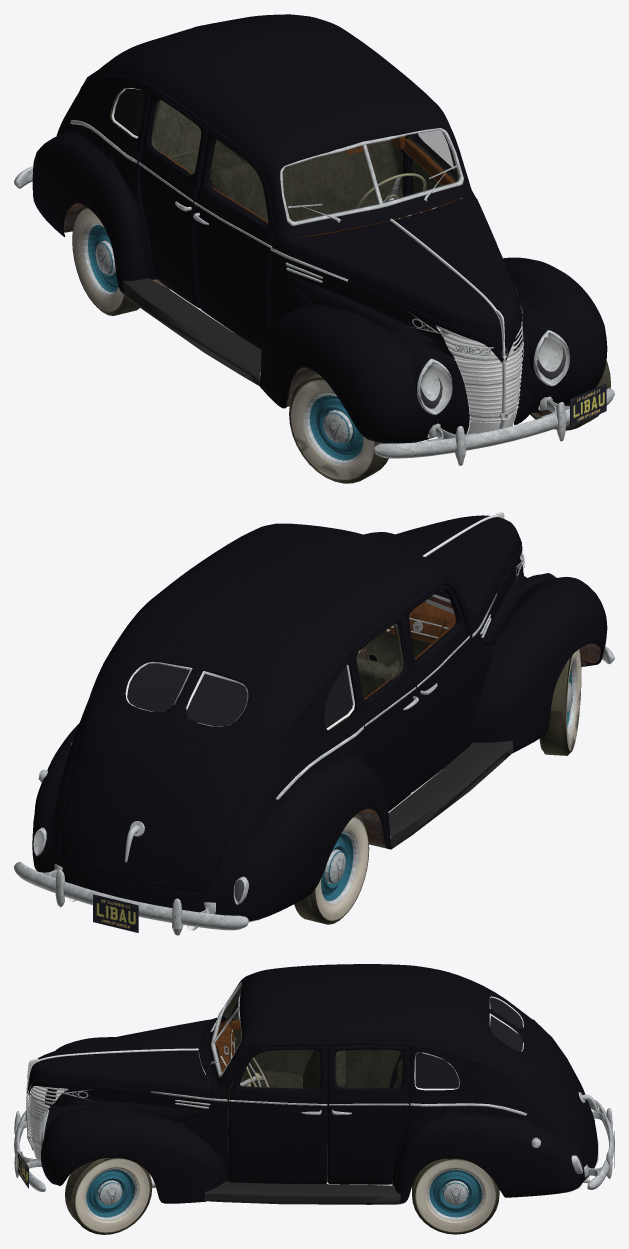
Rendered from carro-3D-optimized.glb.
3 renders of one model, top to bottom at view 1: azimuth 30°, elevation 25°; view 2: azimuth 150°, elevation 25°; view 3: azimuth 270°, elevation 25°, orthographic. The views are drawn at different scales.
Parts seen in each view (by area): view 1: Object_86, Object_85, Object_89, Object_88, Object_15, Object_58, Object_16, Object_29, Object_87, Object_62, Object_90, Object_34 (+3 smaller); view 2: Object_86, Object_88, Object_34, Object_58, Object_15, Object_16, Object_85, Object_89, Object_90, Object_94, Object_29, Object_10 (+1 smaller); view 3: Object_86, Object_15, Object_89, Object_85, Object_16, Object_88, Object_58, Object_34, Object_29, Object_87, Object_90, Object_9.
Part boxes in pixels (x1,y1,x2,y2): Object_86: (32,14,607,443); Object_85: (110,89,458,221); Object_89: (210,130,459,222); Object_88: (14,120,569,441); Object_15: (72,205,610,483); Object_58: (123,278,261,385); Object_16: (82,222,364,464); Object_29: (33,88,523,433); Object_87: (193,212,614,465); Object_62: (420,335,568,412); Object_90: (159,136,460,237); Object_34: (114,88,144,136); Object_86: (32,515,607,921); Object_88: (14,553,557,935); Object_34: (127,663,352,728); Object_58: (369,740,512,849); Object_15: (294,649,581,924); Object_16: (321,660,576,904); Object_85: (174,623,453,729); Object_89: (409,590,454,660); Object_90: (364,601,455,699); Object_94: (93,894,138,932); Object_29: (33,551,523,930); Object_10: (357,643,600,846); Object_86: (27,964,597,1203); Object_15: (65,1157,499,1234); Object_89: (215,987,401,1087); Object_85: (206,987,445,1184); Object_16: (85,1168,484,1220); Object_88: (20,982,614,1189); Object_58: (204,1181,400,1204); Object_34: (233,997,523,1088); Object_29: (28,996,598,1199); Object_87: (14,1092,598,1191); Object_90: (215,1020,301,1106); Object_9: (26,1048,198,1094).
Size of the model in its own units: 2.16 by 2.05 by 5.42.
Materials: 18 (10 with a texture image).
